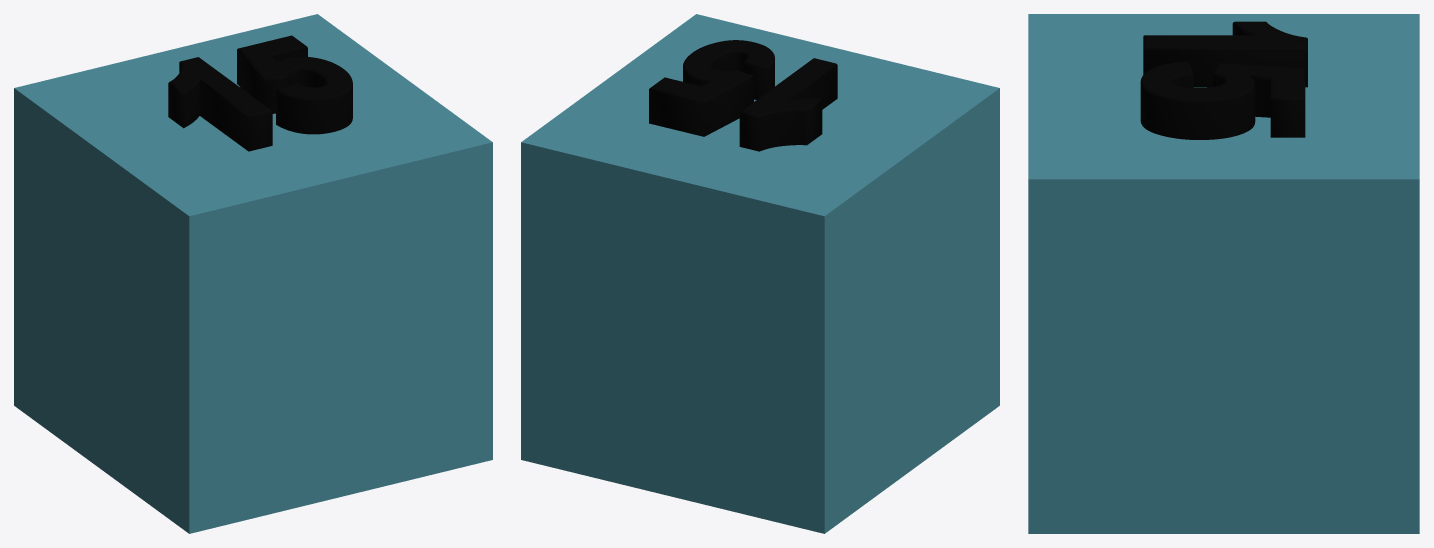
Rendered from level15.fbx.
3 renders of one model, left to right at view 1: azimuth 30°, elevation 25°; view 2: azimuth 150°, elevation 25°; view 3: azimuth 270°, elevation 25°, orthographic. The views are drawn at different scales.
Visible parts, largest first — view 1: Text; view 2: Text; view 3: Text.
Boxes of the visible parts, x1,y1,x2,y2 form: Text: [14, 14, 492, 533]; Text: [521, 14, 999, 533]; Text: [1028, 14, 1419, 533].
Size of the model in its own units: 200 by 223 by 200.
